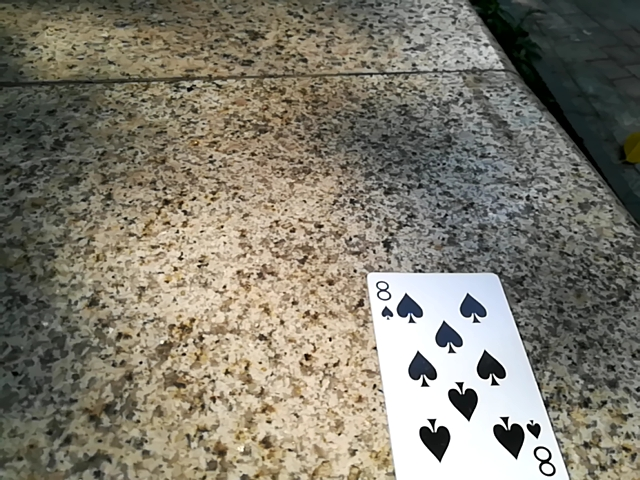ht 8: (371, 265, 569, 479)
